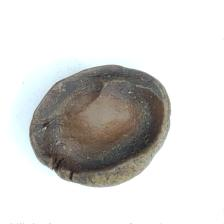NG: (33, 77, 166, 174)
